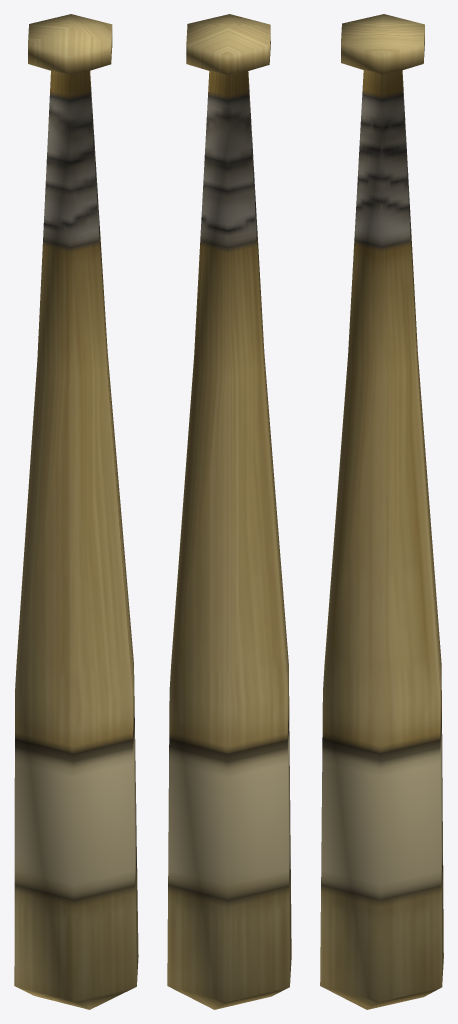
File: a_SWIsport02.glb
3 renders of one model, left to right at view 1: azimuth 90°, elevation 25°; view 2: azimuth 150°, elevation 25°; view 3: azimuth 330°, elevation 25°, orthographic.
Visible parts, largest first — view 1: a_SWIsport02; view 2: a_SWIsport02; view 3: a_SWIsport02.
Boxes of the visible parts, x1,y1,x2,y2 form: a_SWIsport02: [14, 14, 138, 1009]; a_SWIsport02: [167, 14, 291, 1009]; a_SWIsport02: [320, 14, 443, 1009].
Bounding box in the file's own units: 0.1265 × 0.9555 × 0.1111.
1 material, 1 textured.
